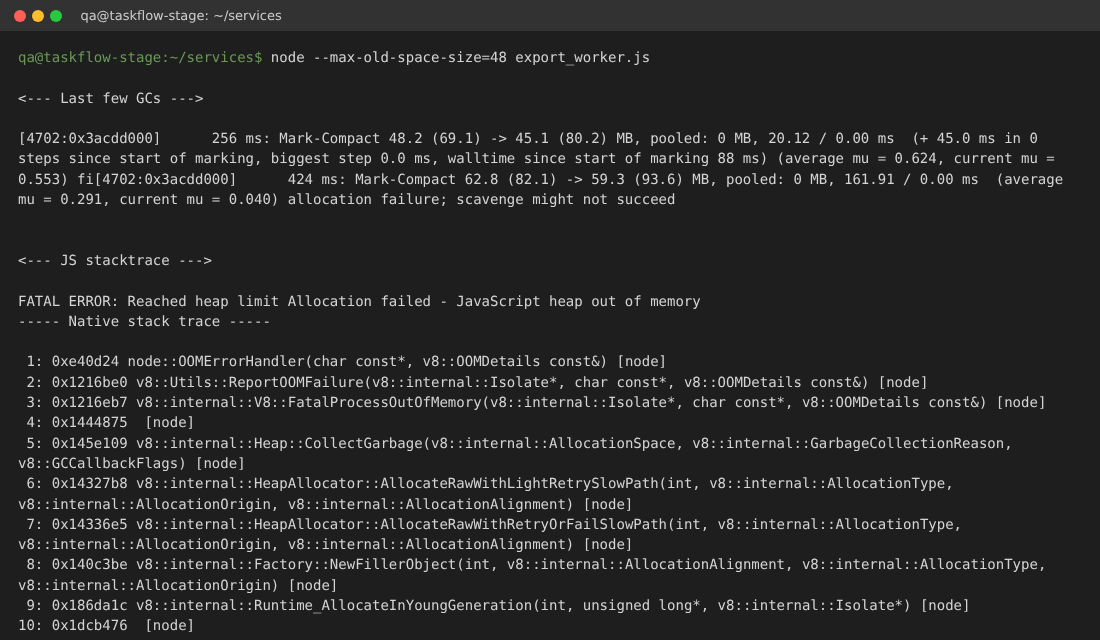ERROR_TEXT: (19, 295, 700, 309)
PII: (19, 51, 162, 66), (81, 10, 208, 23)
STACK_TRACE: (19, 315, 1044, 632), (18, 92, 1063, 266)
